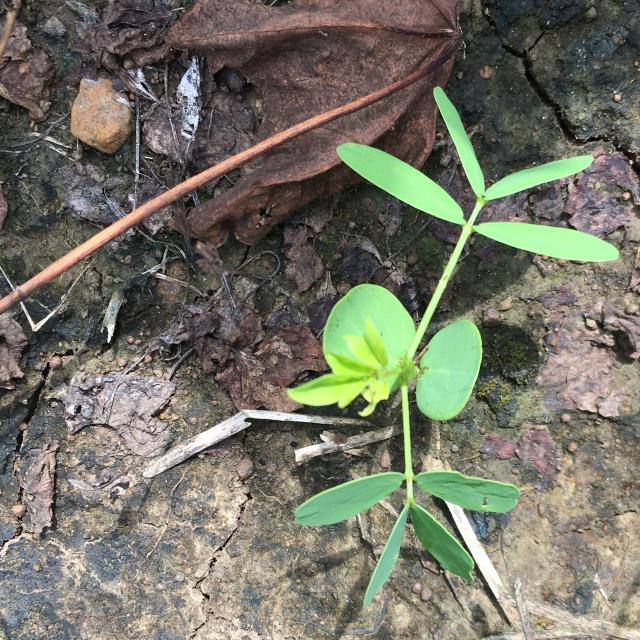Sicklepod: (287, 85, 620, 609)
